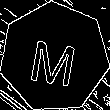M_N: (27, 28, 82, 86)
